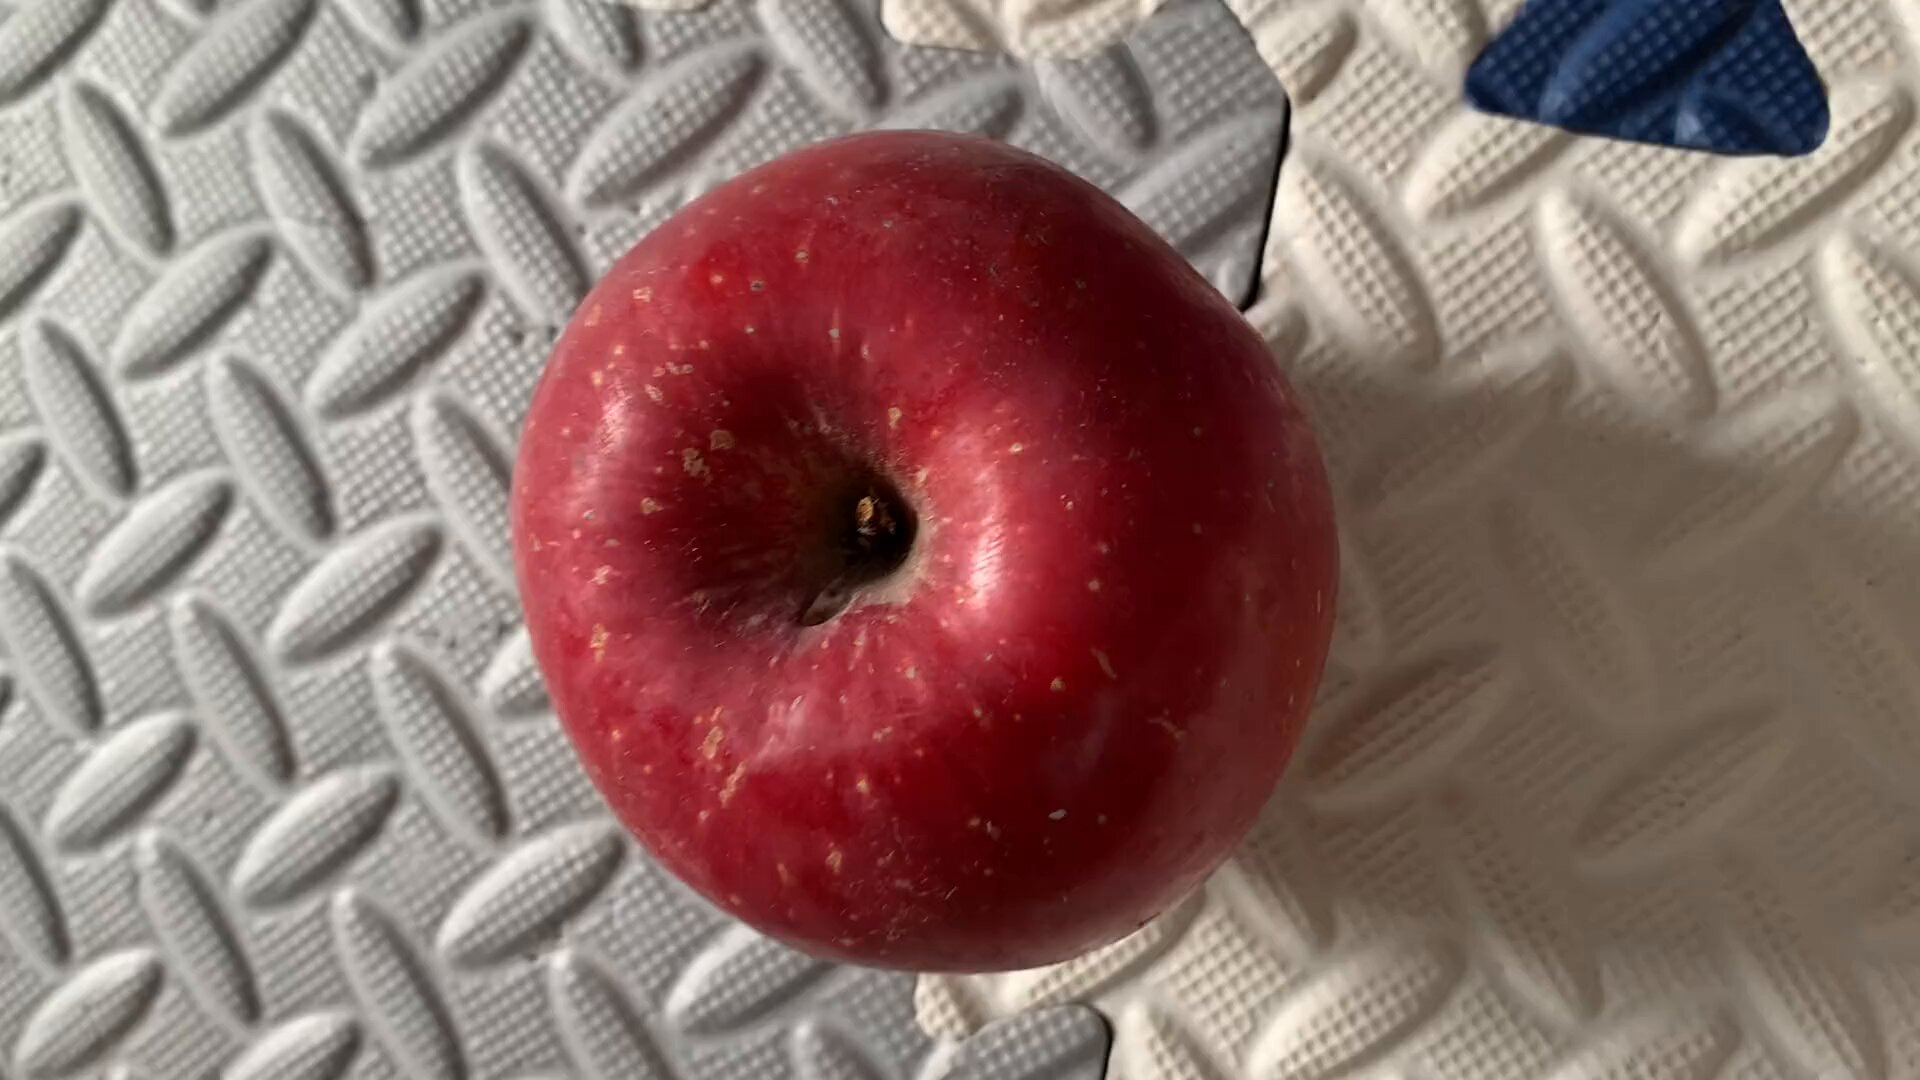不可回收水果: (514, 123, 1331, 973)
